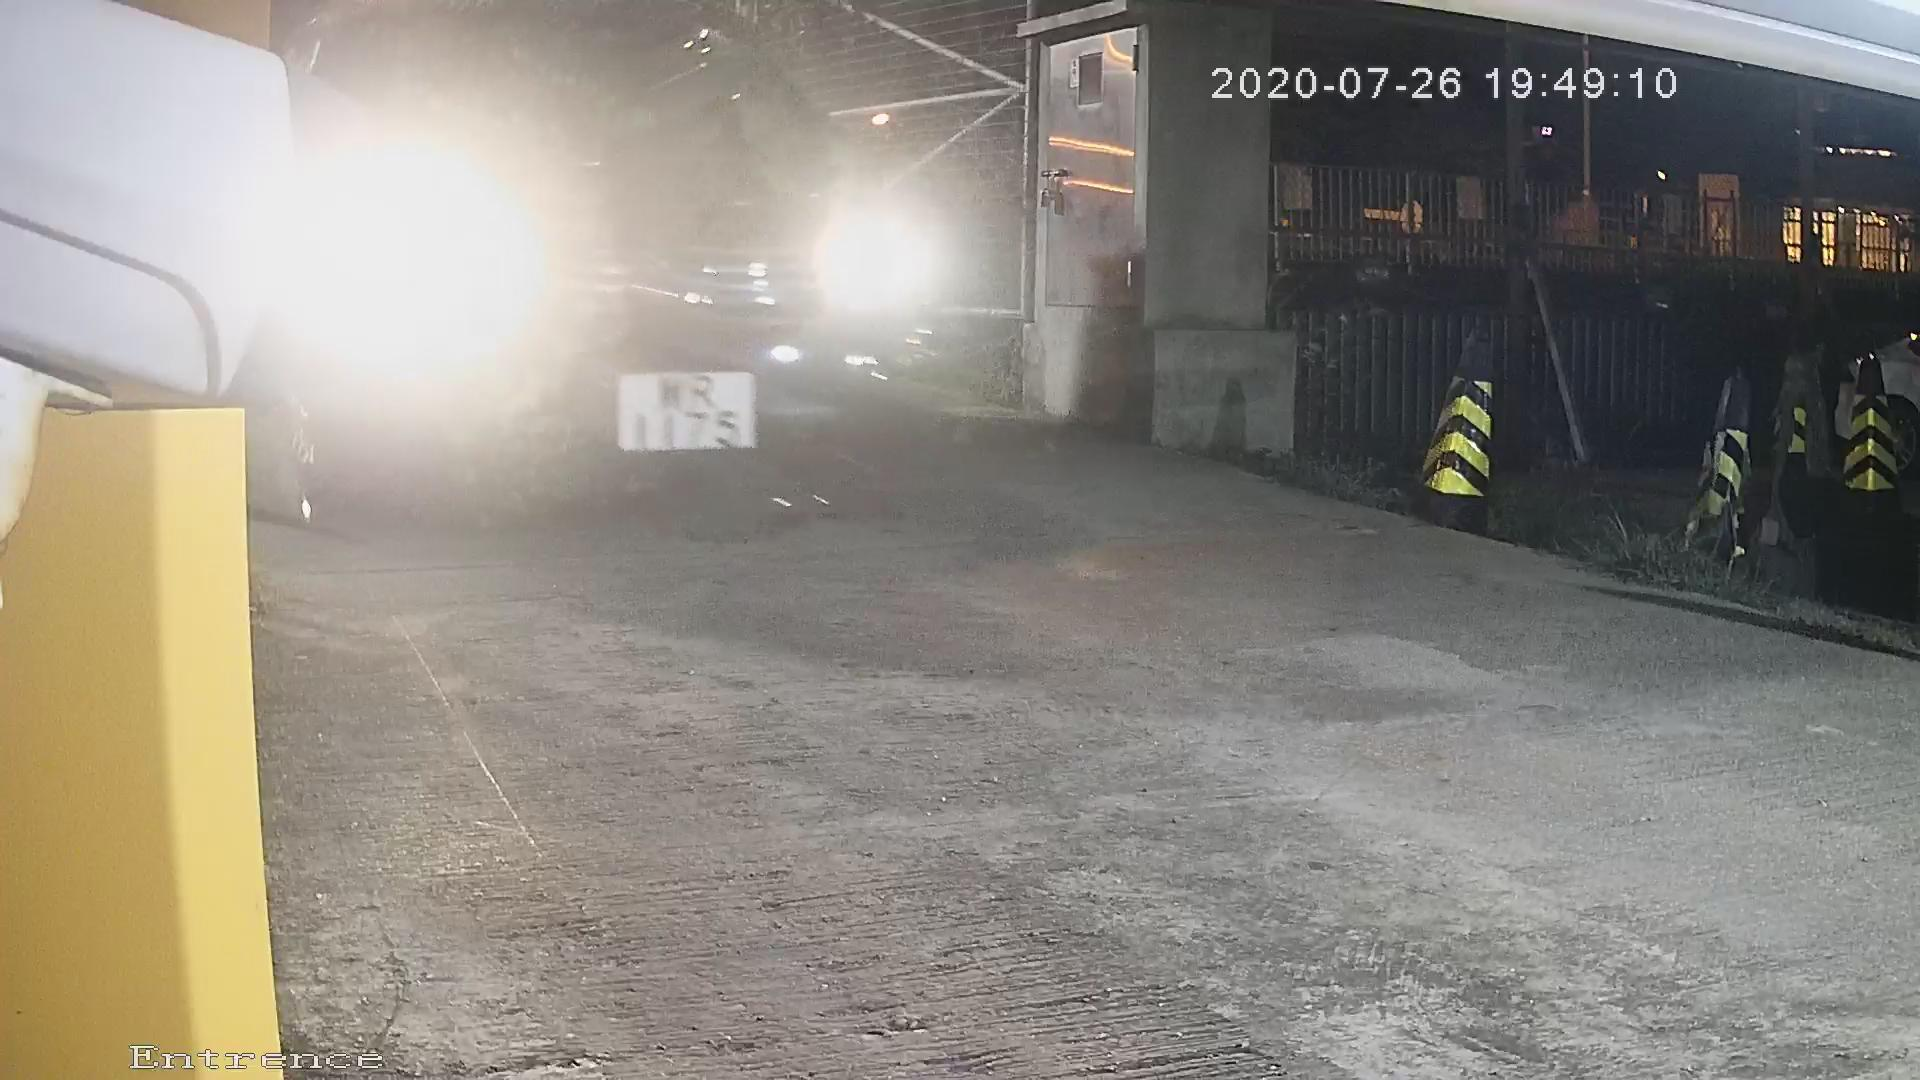License Plate: (558, 338, 781, 468)
